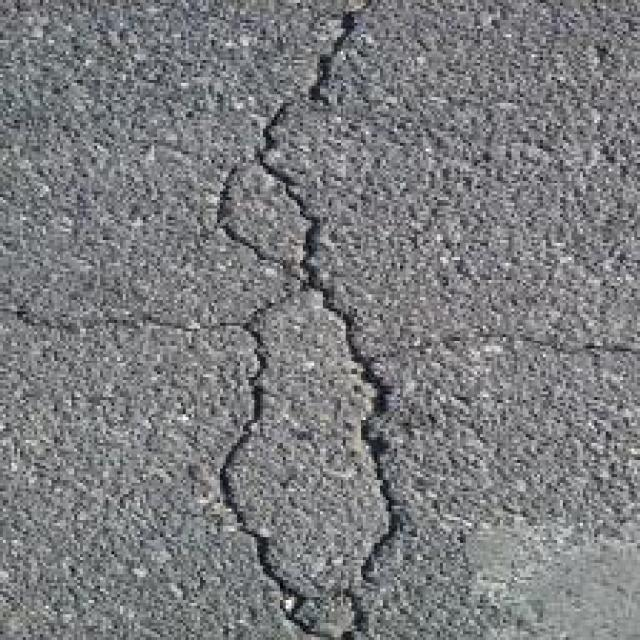crack: (164, 0, 442, 640)
